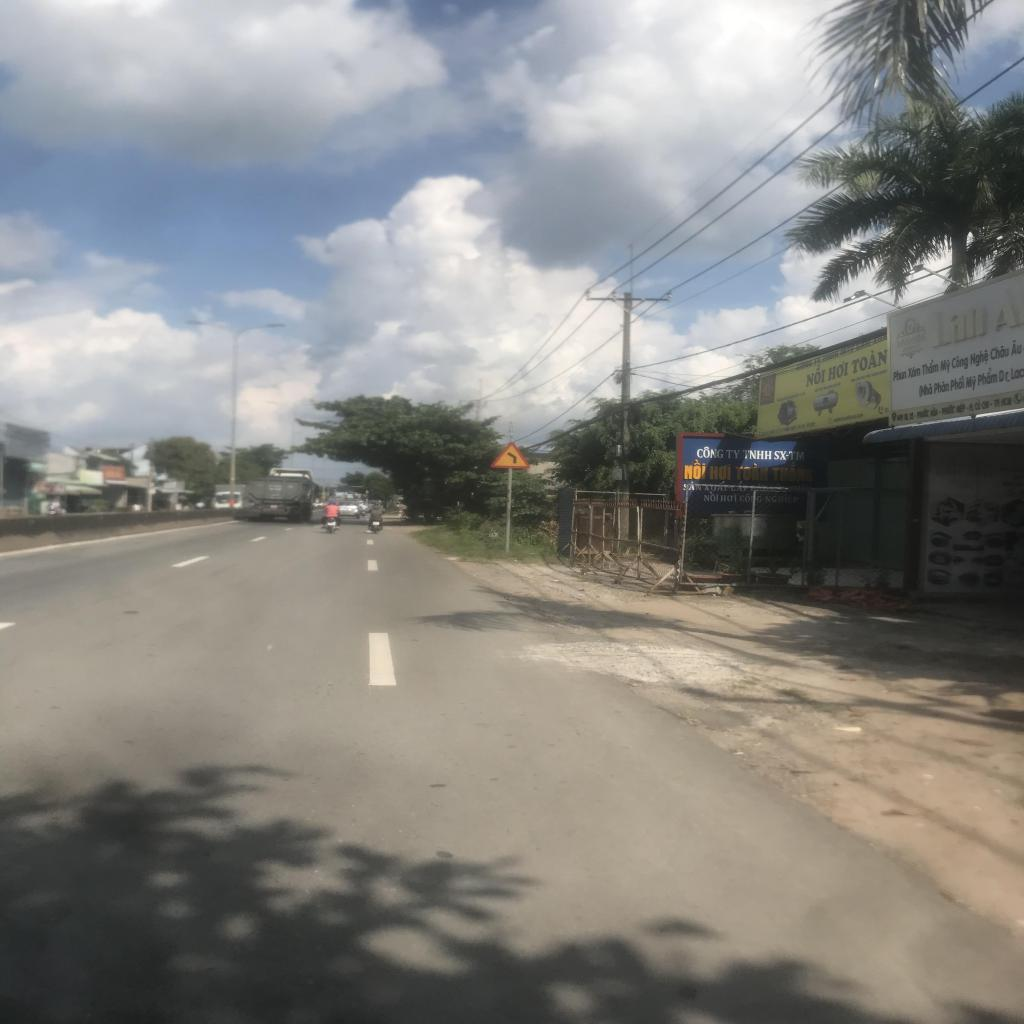cho_ngoat_nguy_hiem_ben_trai: (487, 440, 533, 466)
